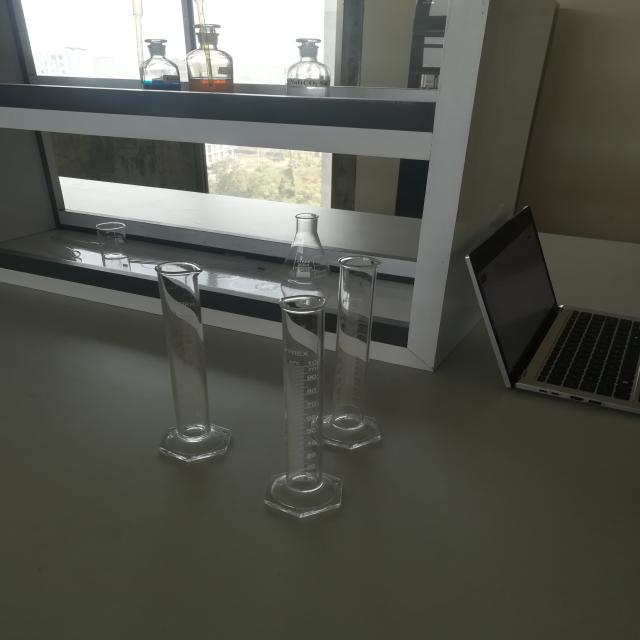Measuring_Cylinder: (128, 233, 250, 487), (256, 266, 358, 537), (321, 233, 402, 467)
